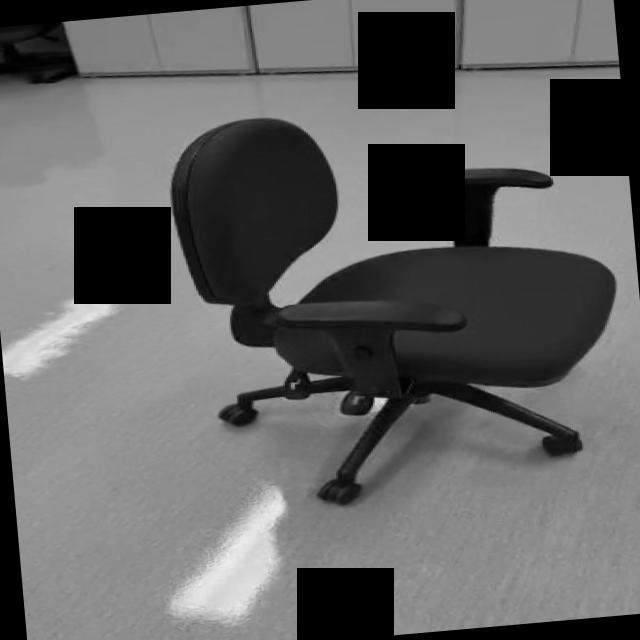chair: (164, 86, 634, 516)
